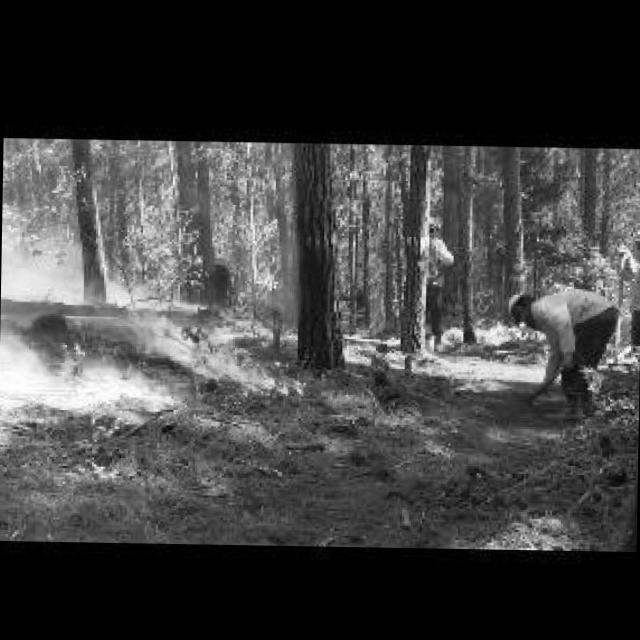fire: (124, 305, 309, 396), (214, 306, 266, 334), (97, 399, 171, 416), (54, 353, 82, 382)
smoke: (0, 321, 58, 389), (99, 280, 195, 311)
